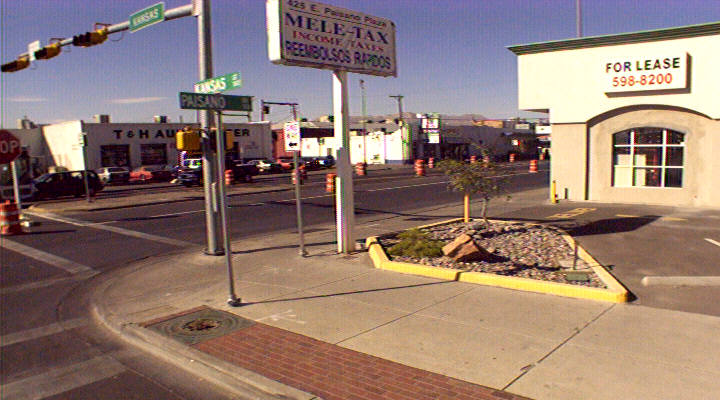Ramp: (53, 242, 288, 348)
